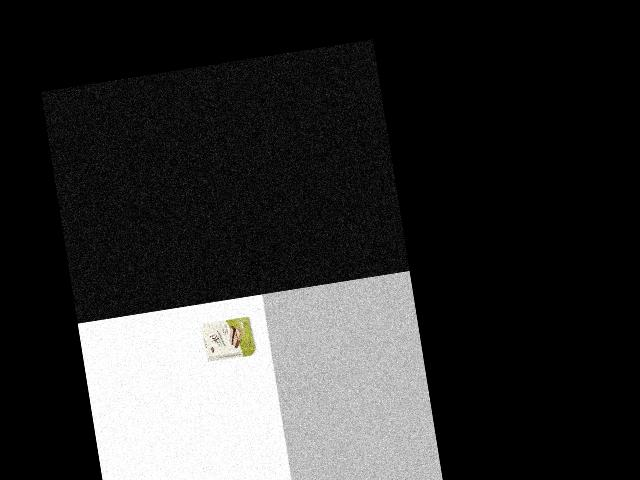chocolate: (199, 311, 259, 365)
